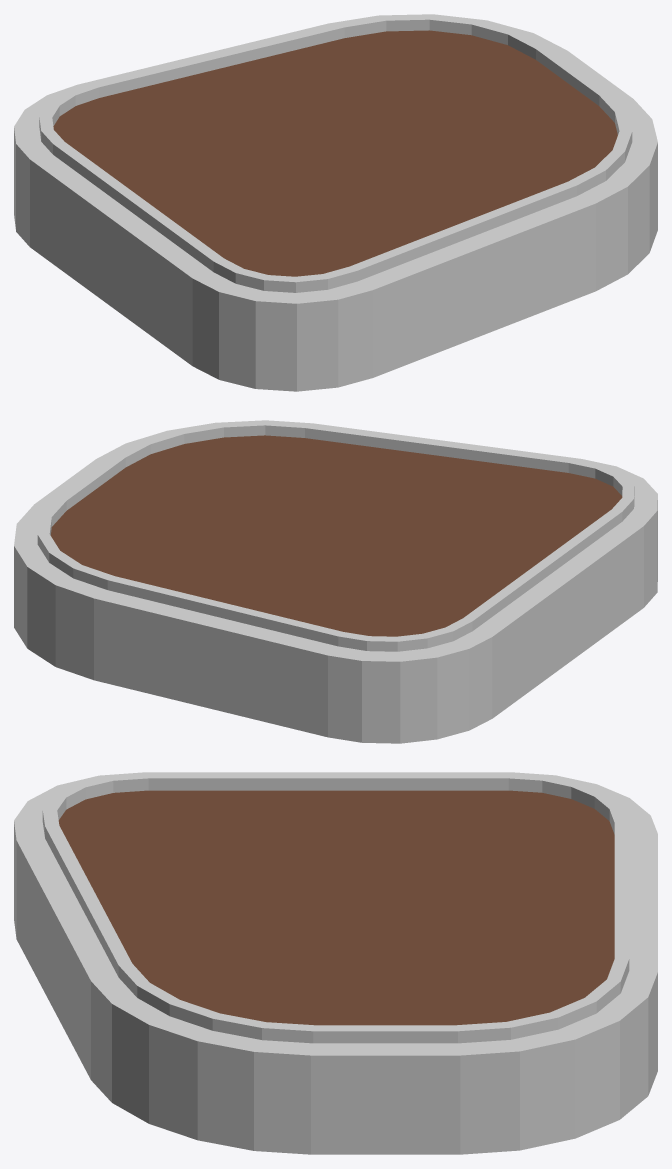
Rendered from 树木基座2.fbx.
3 renders of one model, top to bottom at view 1: azimuth 30°, elevation 25°; view 2: azimuth 150°, elevation 25°; view 3: azimuth 270°, elevation 25°, orthographic. The views are drawn at different scales.
Parts seen in each view (by area): view 1: Cube; view 2: Cube; view 3: Cube.
Part boxes in pixels (<box>): Cube: <box>14,14,657,391</box>; Cube: <box>14,420,657,743</box>; Cube: <box>14,772,657,1154</box>.
Size of the model in its own units: 12.26 by 2.24 by 11.78.
